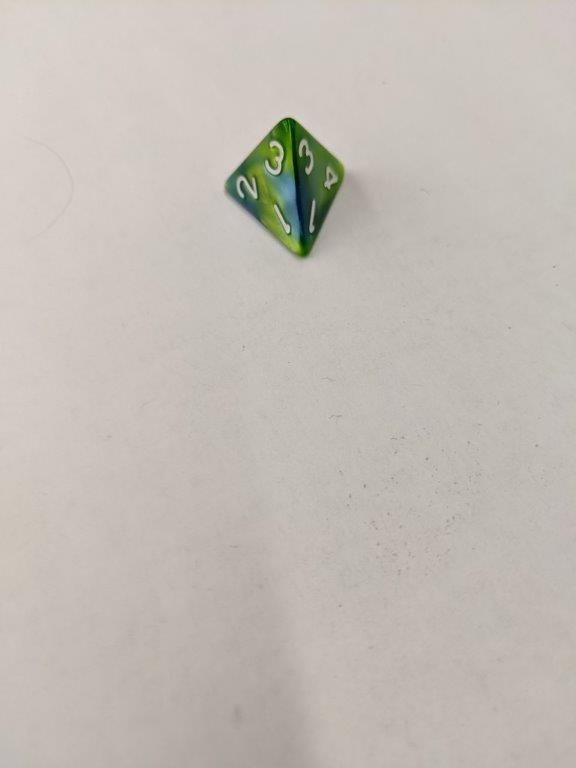d4-3: (216, 118, 348, 260)
